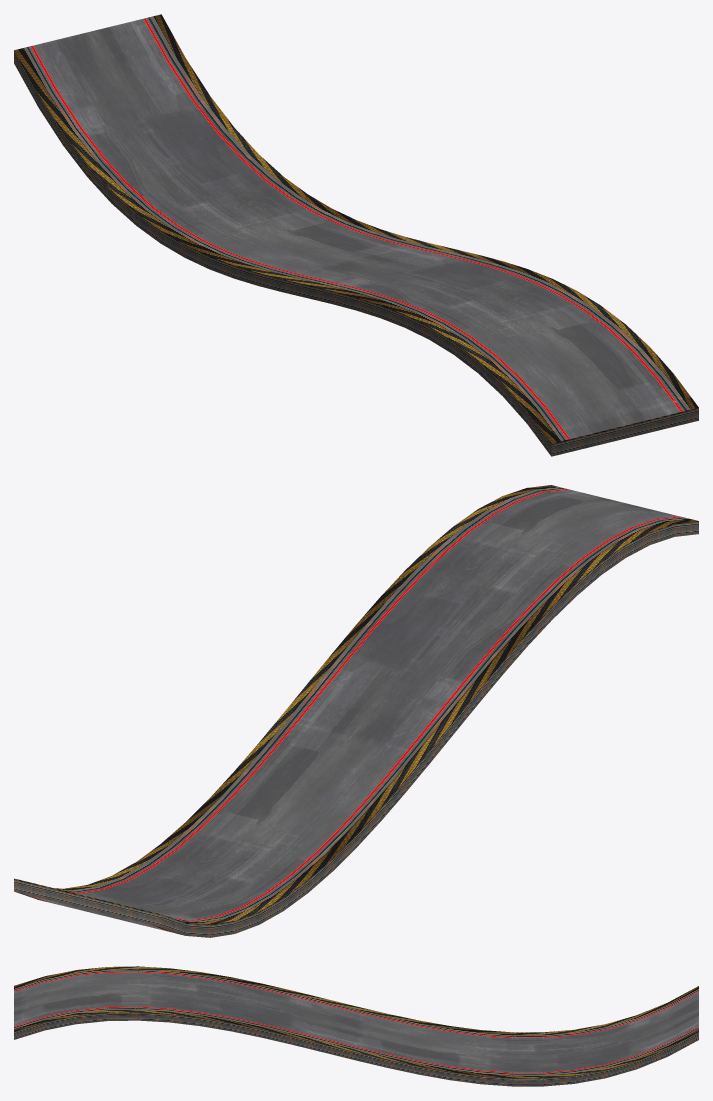
Rendered from Ramp_c3.FBX.
The picture shows the model from 3 angles, top to bottom: view 1: azimuth 30°, elevation 25°; view 2: azimuth 150°, elevation 25°; view 3: azimuth 270°, elevation 25°; orthographic projection. The views are drawn at different scales.
Parts seen in each view (by area): view 1: Box017; view 2: Box017; view 3: Box017.
Boxes of the visible parts, bbox=[...] form: Box017: bbox=[14, 14, 698, 456]; Box017: bbox=[14, 485, 698, 937]; Box017: bbox=[14, 966, 698, 1086].
Bounding box in the file's own units: 955 × 720 × 6027.
Materials: 1 (1 with a texture image).
